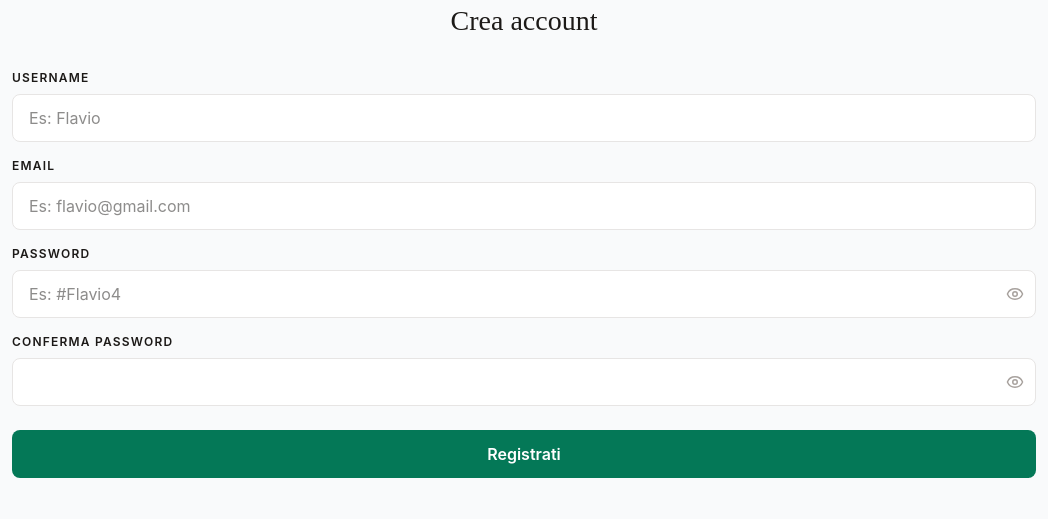
Register › username < 4 char: mostra errore inline
This screenshot has width=1048, height=519.
Type "ab" into the field labelled "Username". click: (524, 118)
box: [12,94,1036,142]
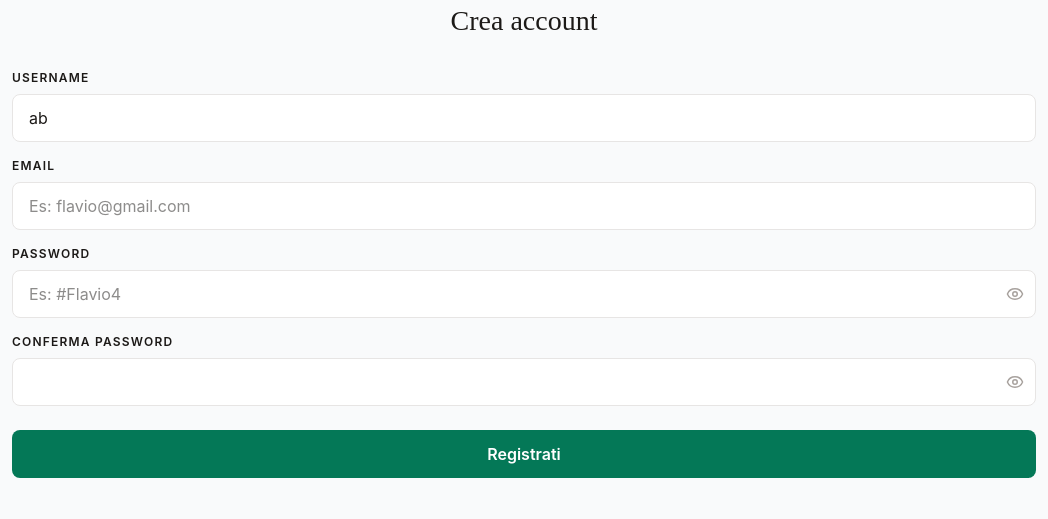
Leave the field labelled "Username", box [12,94,1036,142]
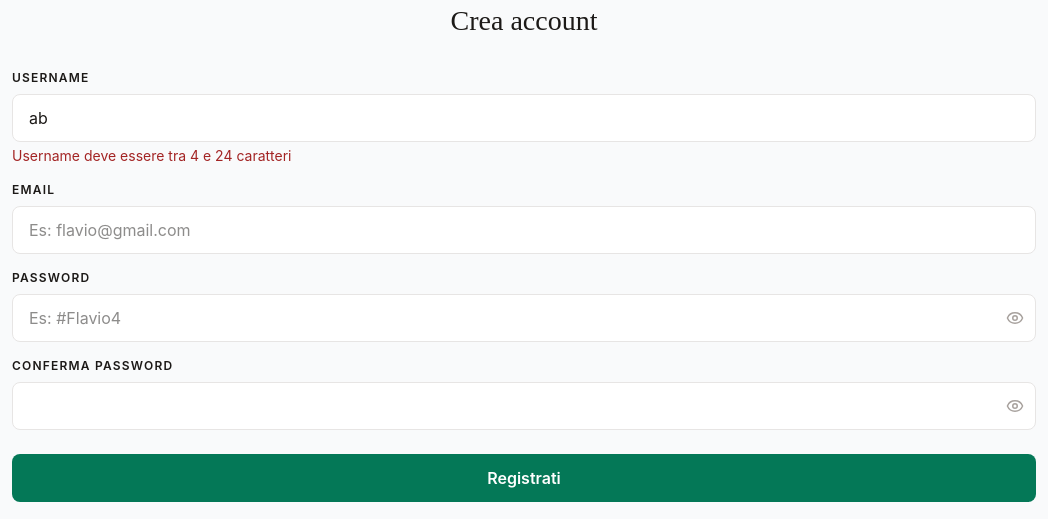
Expected: the text "Username deve essere tra 4 e 24 caratteri" is shown, [12,147,292,164]
